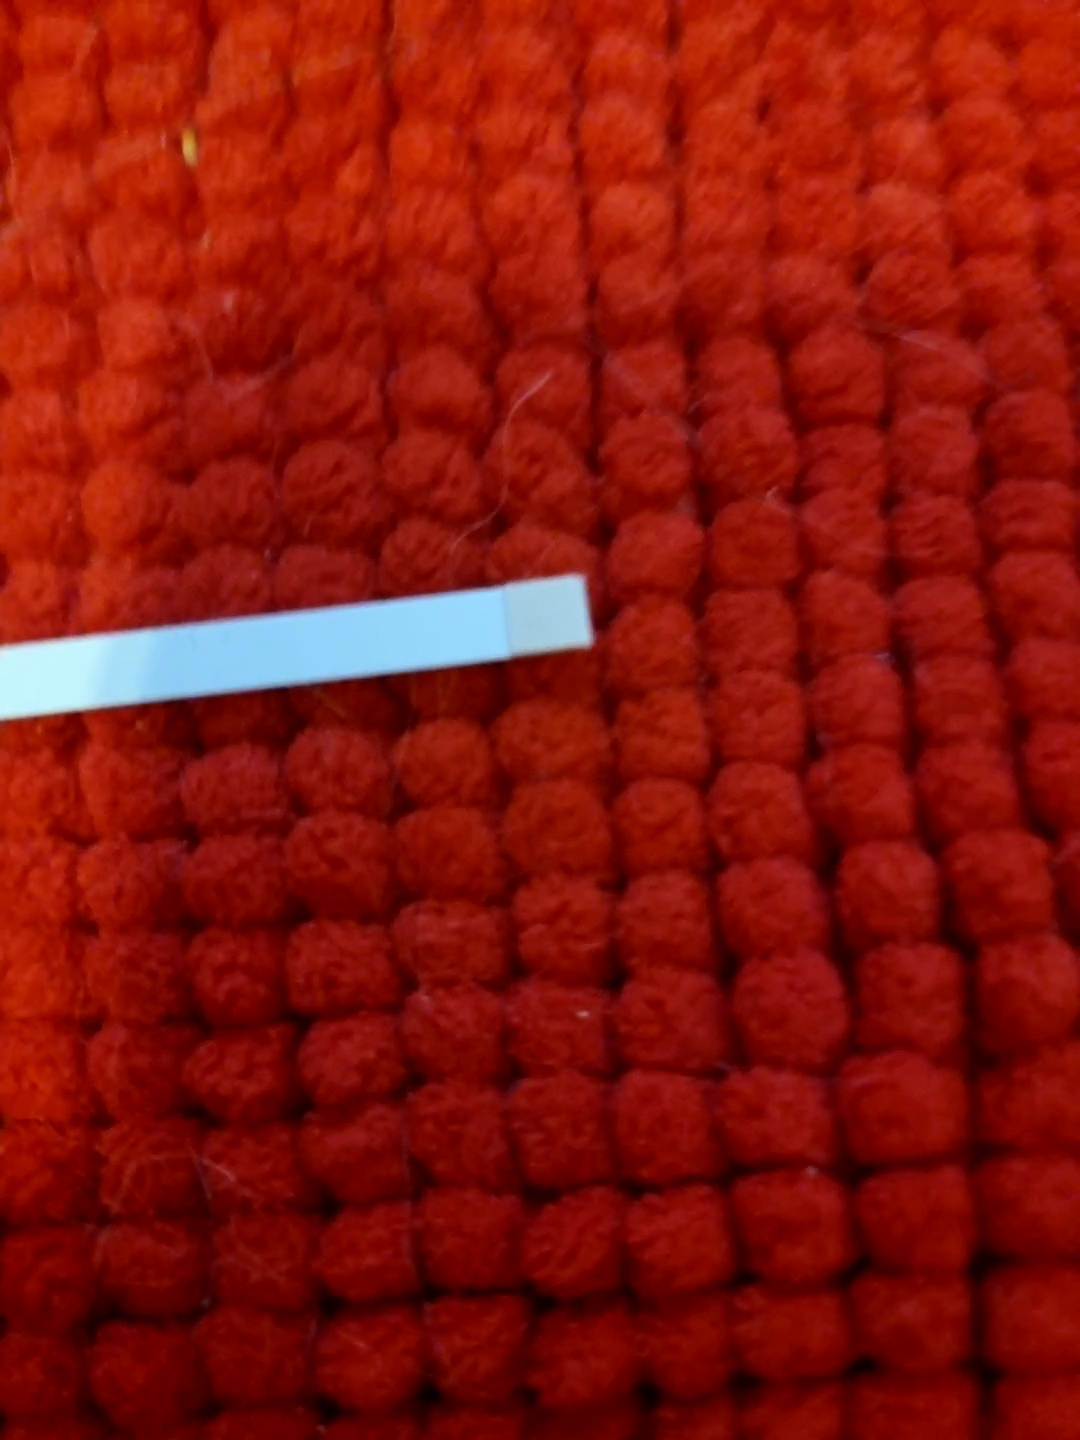keto-tip: (495, 568, 600, 666)
